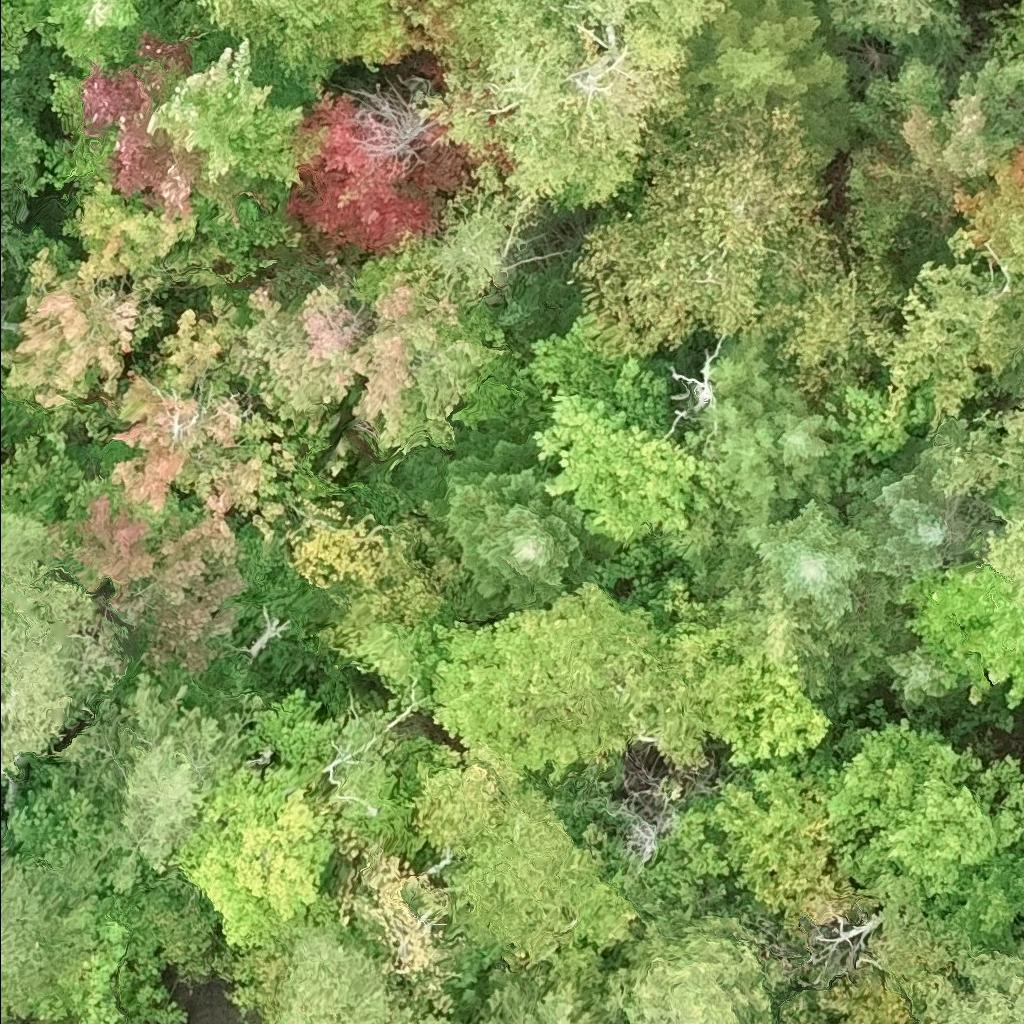crown: (571, 99, 845, 350), (444, 0, 733, 212), (49, 25, 329, 227), (107, 284, 300, 542), (407, 762, 643, 965), (59, 671, 259, 897), (44, 464, 250, 683), (402, 422, 621, 617), (821, 715, 1023, 904), (844, 48, 1023, 261), (343, 239, 513, 459), (869, 226, 1023, 444), (532, 584, 705, 776), (171, 757, 338, 955), (0, 428, 93, 770), (282, 87, 467, 257), (4, 792, 136, 1023), (0, 229, 166, 410), (282, 495, 464, 654), (52, 129, 225, 296), (529, 392, 712, 549), (687, 0, 854, 156), (680, 321, 798, 522), (603, 901, 792, 1023), (225, 279, 370, 437), (707, 740, 841, 909), (679, 634, 832, 767), (757, 251, 906, 387), (336, 841, 451, 1015), (893, 560, 1023, 711), (845, 442, 960, 605), (743, 496, 870, 637), (930, 395, 1023, 575), (96, 870, 221, 990), (0, 841, 79, 1023), (187, 0, 361, 78), (273, 923, 404, 1023), (0, 0, 178, 73), (821, 384, 929, 493), (0, 76, 51, 297), (458, 949, 609, 1023), (525, 315, 632, 417), (771, 343, 833, 514), (644, 795, 731, 910), (910, 941, 1023, 1023), (823, 0, 969, 59), (326, 0, 459, 64), (881, 642, 960, 707), (613, 354, 667, 438), (985, 0, 1023, 57), (48, 1021, 56, 1023)
